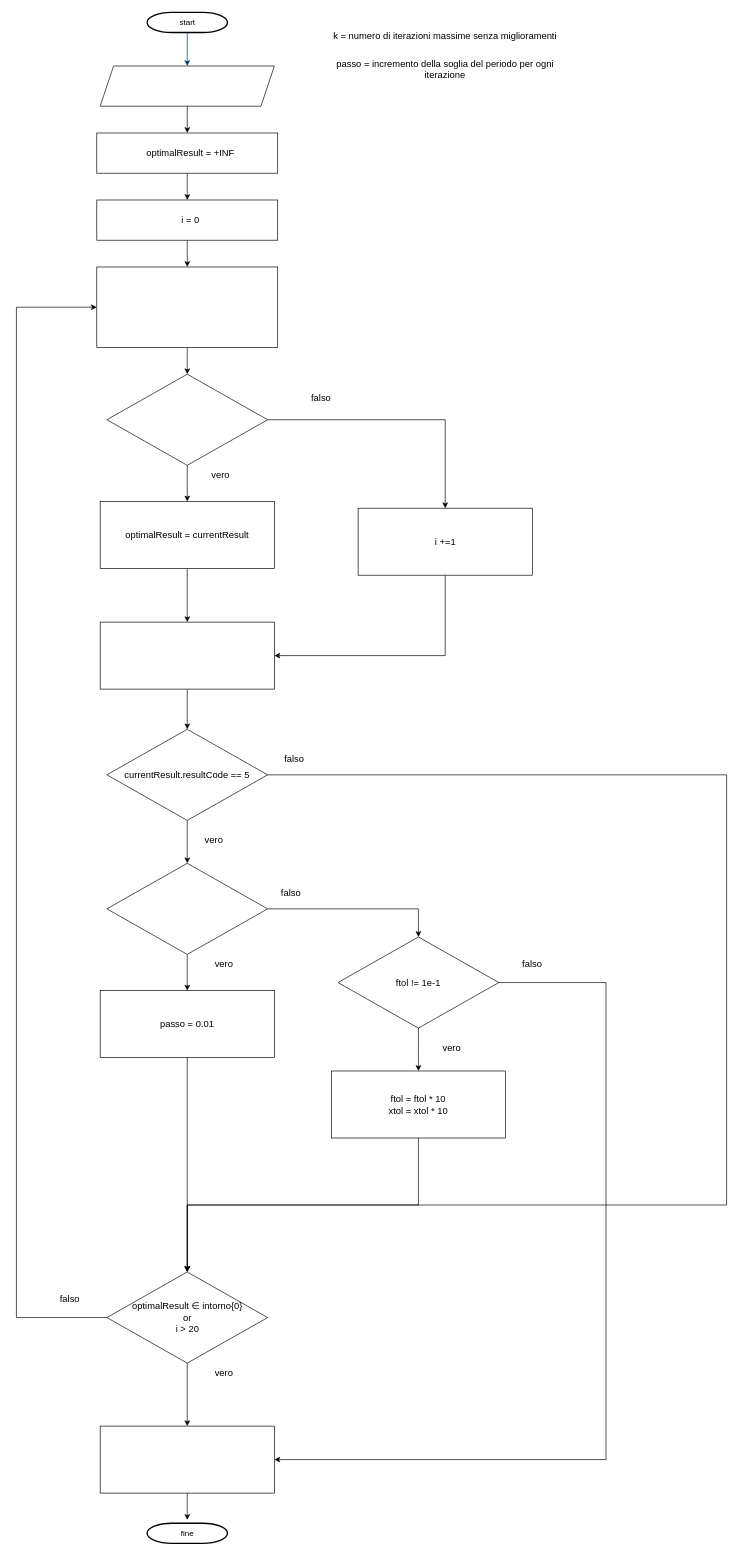
The diagram is 744 pixels wide and 1555 high, and some of its shapes have lost their labels. Here are the shapes that lost their labels. From the top down, the centre of each, then its label:
At point (186, 85): "data, ftol = 1e-6, xtol = 1e-6 , b = 0.1".
At point (187, 306): "currentResult = interpolate( data, ftol, xtol, b)".
At point (187, 419): "currentResult < optimalResult".
At point (186, 655): "b += passo".
At point (187, 908): "passo != 0.01".
At point (186, 1459): "return optimalResult".
